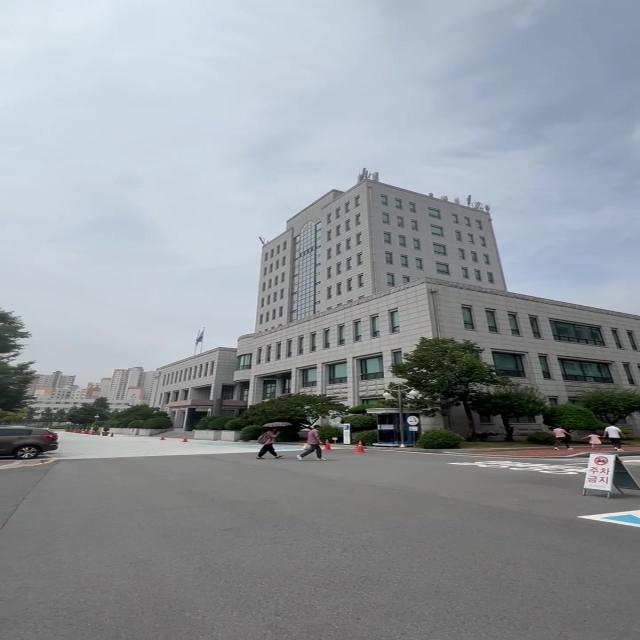building: (246, 173, 508, 356)
